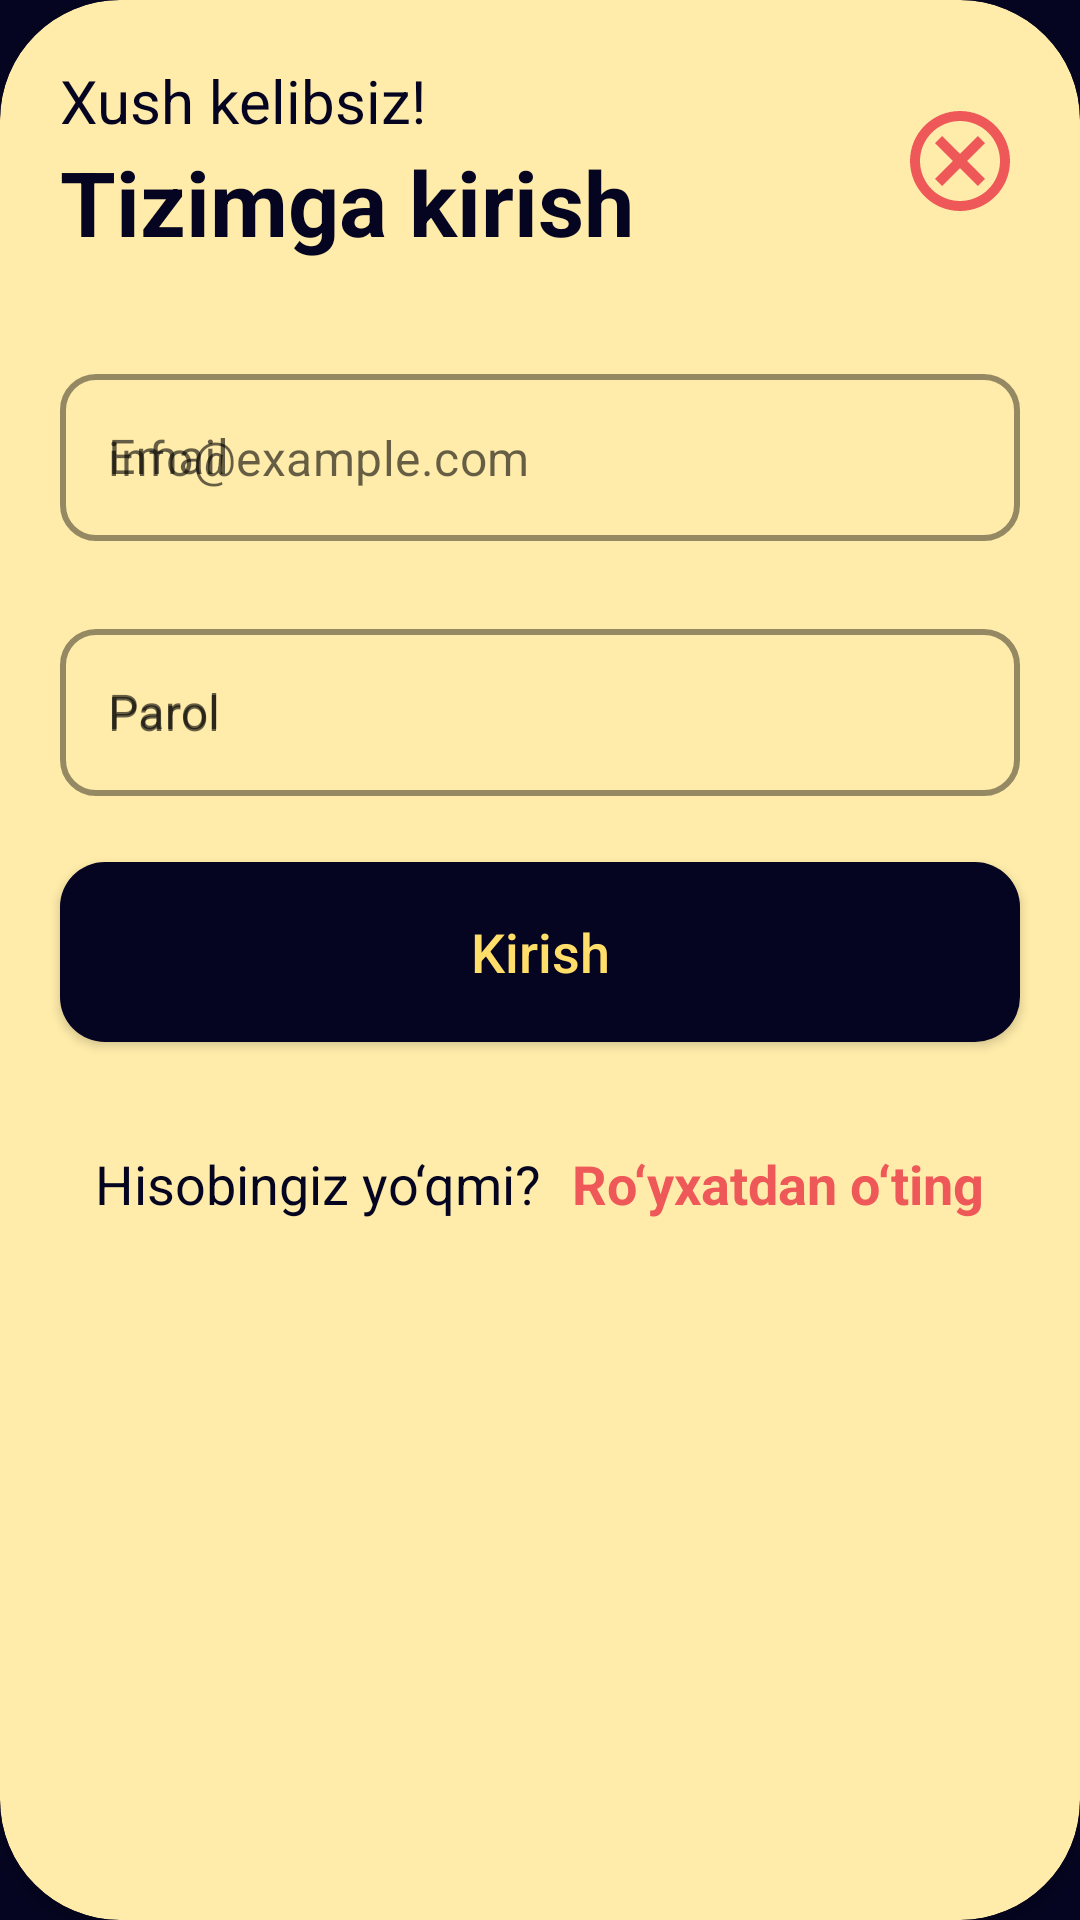

Locate icon controls on the screen. Image size 1080*1920, boxes as (x1, y1, x2, y2).
cancel: (910, 111, 1010, 211)
